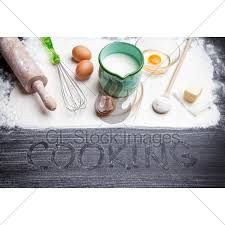Eggs: (75, 59, 94, 82), (144, 49, 166, 67)
